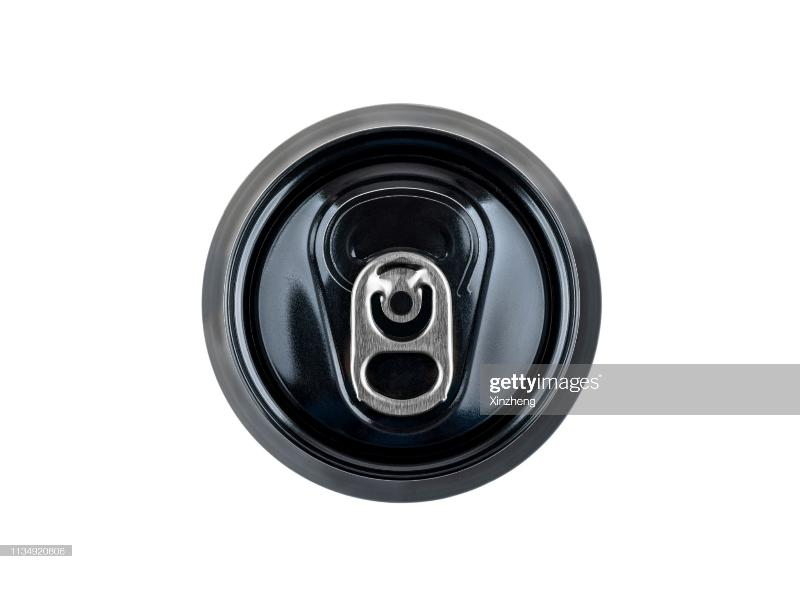can: (194, 93, 612, 510)
